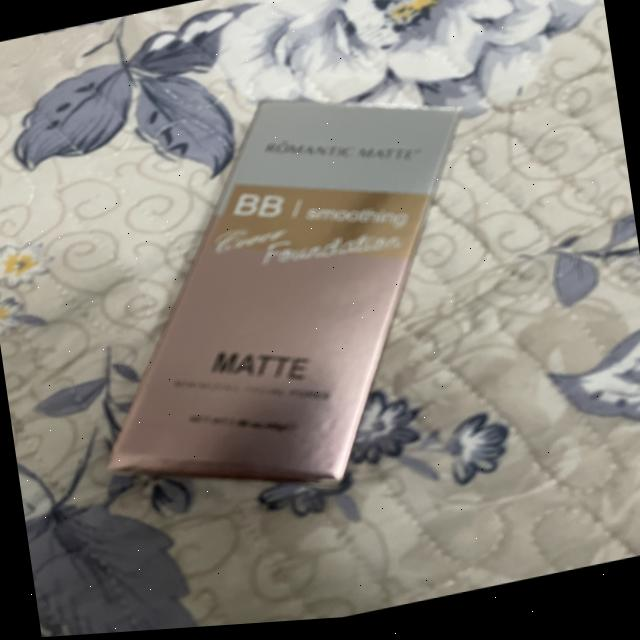bb cream: (33, 53, 528, 566)
